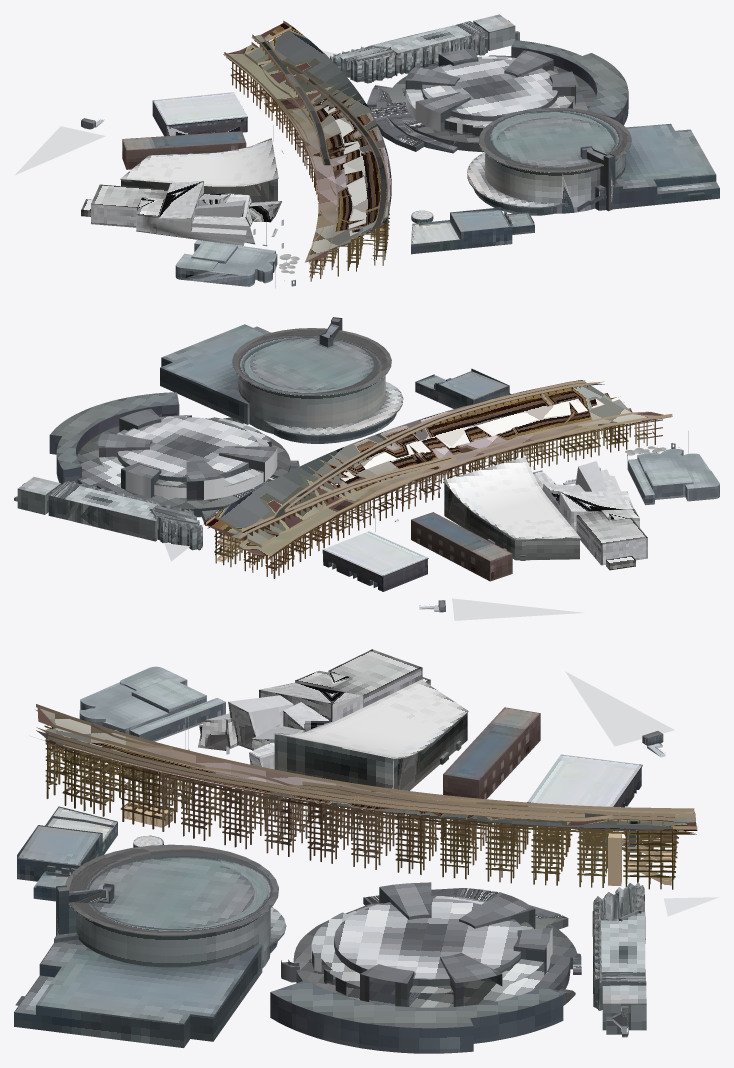
3 views of the same model, one above another, from view 1: azimuth 30°, elevation 25°; view 2: azimuth 150°, elevation 25°; view 3: azimuth 270°, elevation 25° (orthographic). The views are drawn at different scales.
Visible parts, largest first — view 1: Buildings_建物パビリオン, GrandRoofRing_大屋根リング, Facilities_都市設備; view 2: Buildings_建物パビリオン, GrandRoofRing_大屋根リング, Facilities_都市設備; view 3: Buildings_建物パビリオン, GrandRoofRing_大屋根リング.
Part boxes in pixels (left/top/right/bottom): Buildings_建物パビリオン: left=14, top=14, right=719, bottom=286; GrandRoofRing_大屋根リング: left=223, top=20, right=391, bottom=281; Facilities_都市設備: left=81, top=118, right=299, bottom=288; Buildings_建物パビリオン: left=14, top=317, right=719, bottom=620; GrandRoofRing_大屋根リング: left=204, top=380, right=672, bottom=578; Facilities_都市設備: left=375, top=431, right=688, bottom=612; Buildings_建物パビリオン: left=14, top=649, right=719, bottom=1053; GrandRoofRing_大屋根リング: left=35, top=704, right=697, bottom=889.
Bounding box in the file's own units: 277 × 25.8 × 220.
30 materials, 27 textured.
